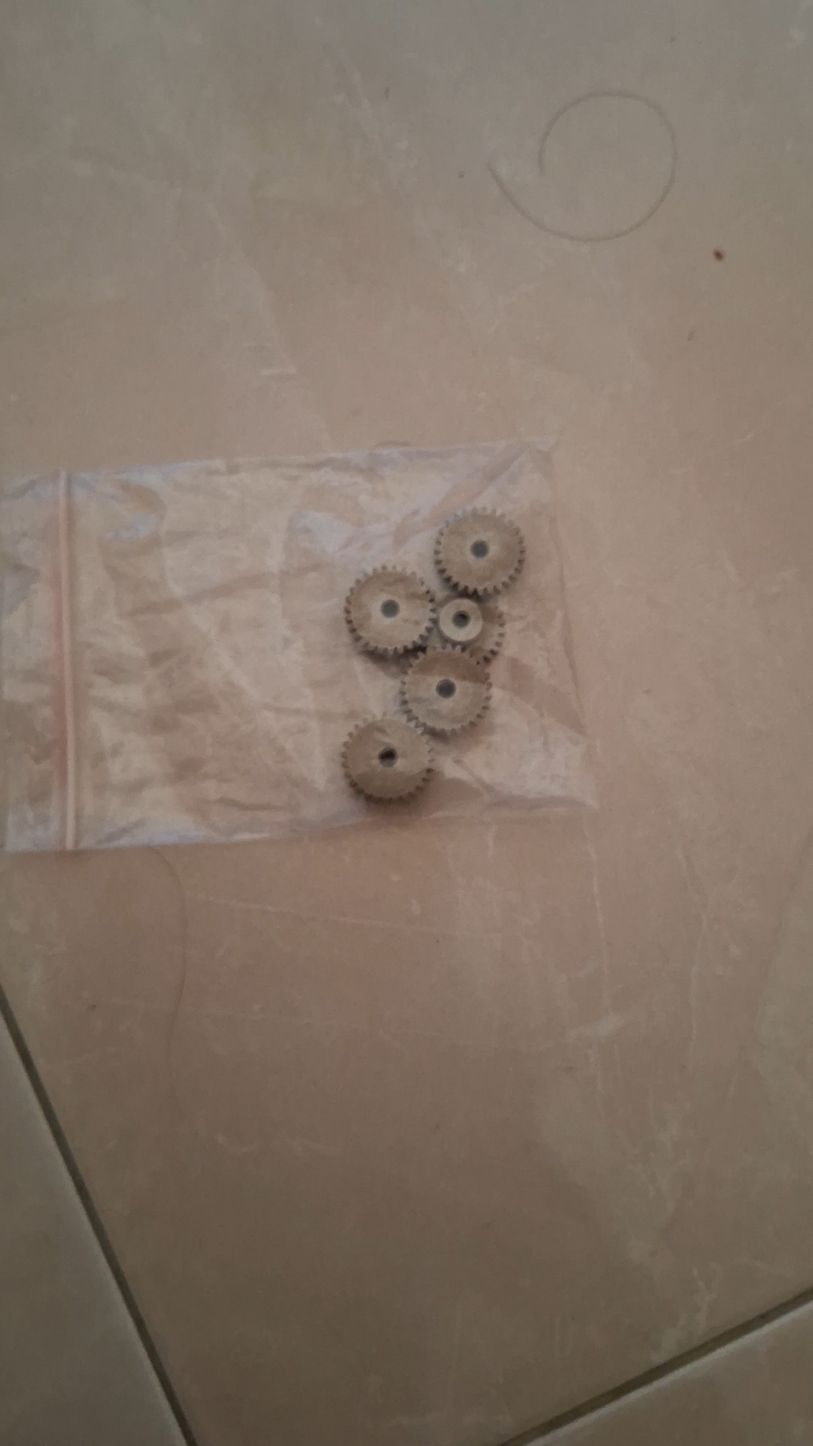spur gear: (344, 567, 435, 656), (435, 509, 524, 598), (401, 647, 490, 734), (342, 717, 432, 801), (432, 593, 506, 662)
